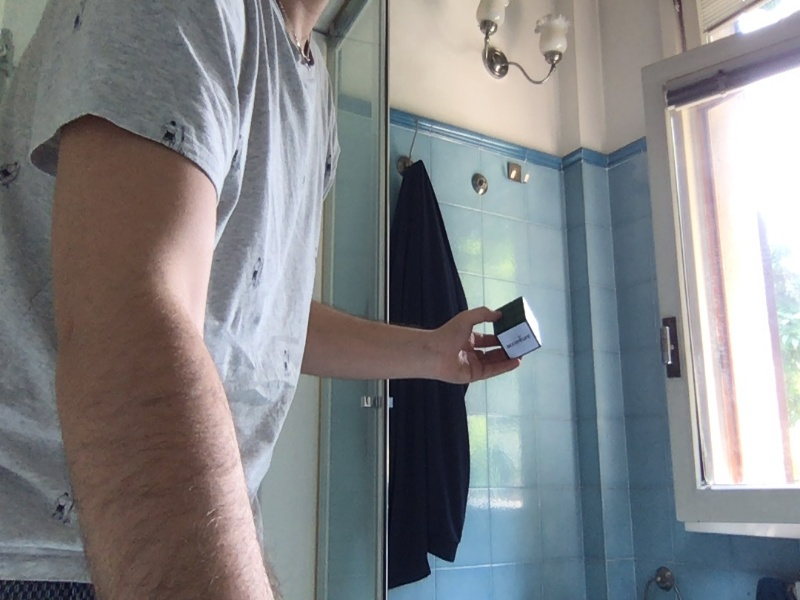rubik: (491, 296, 544, 360)
